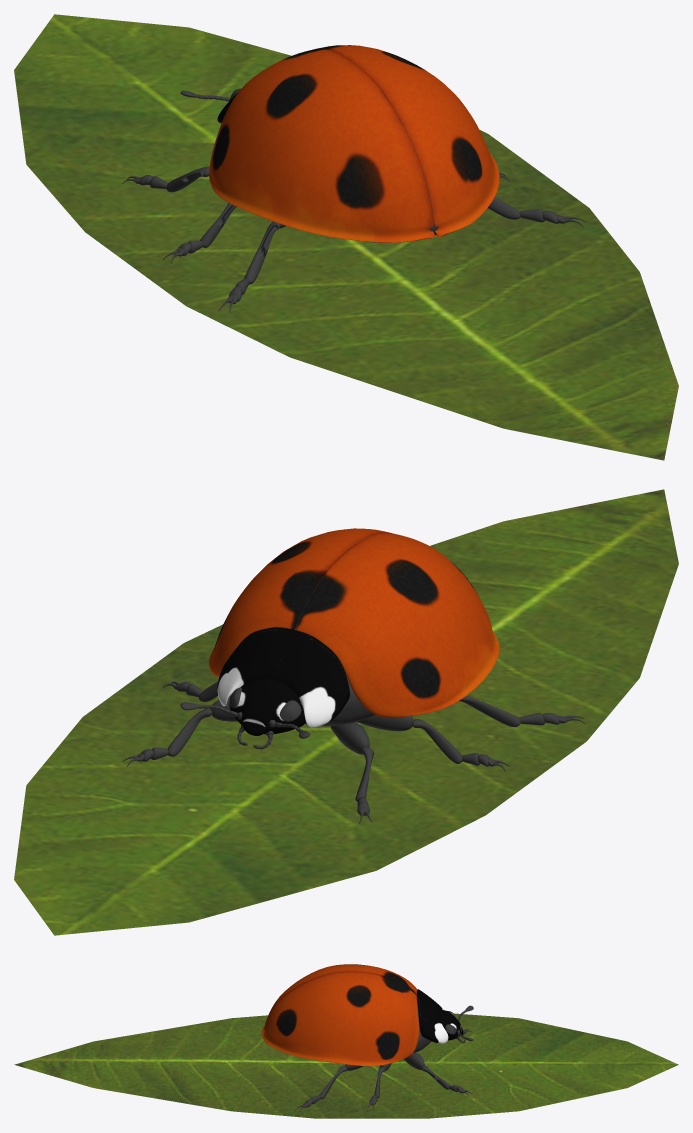
File: matrix.glb
3 views of the same model, one above another, from view 1: azimuth 30°, elevation 25°; view 2: azimuth 150°, elevation 25°; view 3: azimuth 270°, elevation 25° (orthographic). The views are drawn at different scales.
Parts seen in each view (by area): view 1: Plane, L_Shell, R_Shell, C_HindLeg; view 2: Plane, L_Shell, R_Shell, C_Neck, C_Head, C_FrontThighs, C_FrontLeg, C_MiddleLeg, Ladybird, C_HindLeg; view 3: Plane, R_Shell, L_Shell, C_Neck, C_Head.
Boxes of the visible parts, left/top/right/bottom form: Plane: left=14, top=14, right=678, bottom=460; L_Shell: left=209, top=49, right=442, bottom=242; R_Shell: left=313, top=45, right=499, bottom=236; C_HindLeg: left=244, top=197, right=520, bottom=284; Plane: left=14, top=489, right=678, bottom=935; L_Shell: left=296, top=532, right=499, bottom=717; R_Shell: left=209, top=528, right=390, bottom=676; C_Neck: left=217, top=627, right=349, bottom=727; C_Head: left=229, top=678, right=305, bottom=735; C_FrontThighs: left=210, top=695, right=369, bottom=754; C_FrontLeg: left=167, top=708, right=373, bottom=801; C_MiddleLeg: left=198, top=681, right=462, bottom=763; Ladybird: left=294, top=595, right=375, bottom=726; C_HindLeg: left=458, top=695, right=520, bottom=727; Plane: left=14, top=1013, right=678, bottom=1118; R_Shell: left=261, top=972, right=419, bottom=1066; L_Shell: left=261, top=964, right=417, bottom=1034; C_Neck: left=417, top=989, right=448, bottom=1043; C_Head: left=440, top=1010, right=463, bottom=1040.
Size of the model in its own units: 46.05 by 18.61 by 121.
5 materials, 4 textured.
